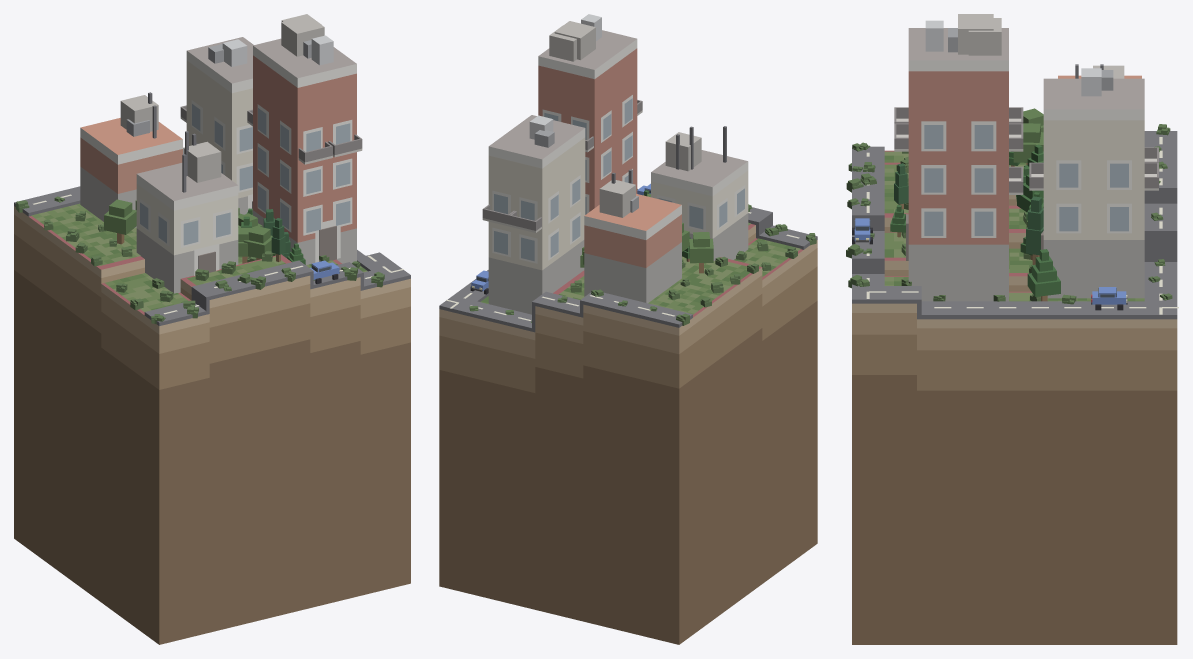
File: block_22_engineered_15.glb
3 renders of one model, left to right at view 1: azimuth 30°, elevation 25°; view 2: azimuth 150°, elevation 25°; view 3: azimuth 270°, elevation 25°, orthographic. The views are drawn at different scales.
Visible parts, largest first — view 1: Patch_UpperRight_b21_ES, ResidBldgs_b22_ES, Roads_UpperRight_b21_ES, Green_UpperRight_b22_ES, URTree_22_2_ES, URTree_22_7_ES; view 2: Patch_UpperRight_b21_ES, ResidBldgs_b22_ES, Roads_UpperRight_b21_ES, Green_UpperRight_b22_ES, URTree_22_2_ES; view 3: Patch_UpperRight_b21_ES, ResidBldgs_b22_ES, Roads_UpperRight_b21_ES, Green_UpperRight_b22_ES, URTree_22_21_ES, URTree_22_17_ES, RoadMarks_UpperRight_b21_ES, URTree_22_4_ES, RCar_12_ES, URTree_22_11_ES, RCar_8_ES.
Boxes of the visible parts, bbox=[...] form: Patch_UpperRight_b21_ES: bbox=[14, 206, 410, 644]; ResidBldgs_b22_ES: bbox=[80, 14, 362, 293]; Roads_UpperRight_b21_ES: bbox=[14, 186, 410, 325]; Green_UpperRight_b22_ES: bbox=[31, 203, 367, 311]; URTree_22_2_ES: bbox=[104, 199, 136, 244]; URTree_22_7_ES: bbox=[243, 226, 272, 260]; Patch_UpperRight_b21_ES: bbox=[439, 224, 817, 644]; ResidBldgs_b22_ES: bbox=[482, 14, 748, 314]; Roads_UpperRight_b21_ES: bbox=[439, 207, 817, 332]; Green_UpperRight_b22_ES: bbox=[480, 222, 800, 314]; URTree_22_2_ES: bbox=[689, 232, 713, 273]; Patch_UpperRight_b21_ES: bbox=[852, 150, 1177, 644]; ResidBldgs_b22_ES: bbox=[894, 14, 1158, 301]; Roads_UpperRight_b21_ES: bbox=[852, 131, 1177, 319]; Green_UpperRight_b22_ES: bbox=[884, 151, 1144, 301]; URTree_22_21_ES: bbox=[1027, 249, 1060, 301]; URTree_22_17_ES: bbox=[1026, 196, 1043, 264]; RoadMarks_UpperRight_b21_ES: bbox=[866, 137, 1178, 314]; URTree_22_4_ES: bbox=[1013, 123, 1043, 164]; RCar_12_ES: bbox=[1091, 287, 1127, 310]; URTree_22_11_ES: bbox=[894, 163, 908, 209]; RCar_8_ES: bbox=[852, 218, 872, 244].
Bounding box in the file's own units: 9.63 × 19.17 × 9.73.
